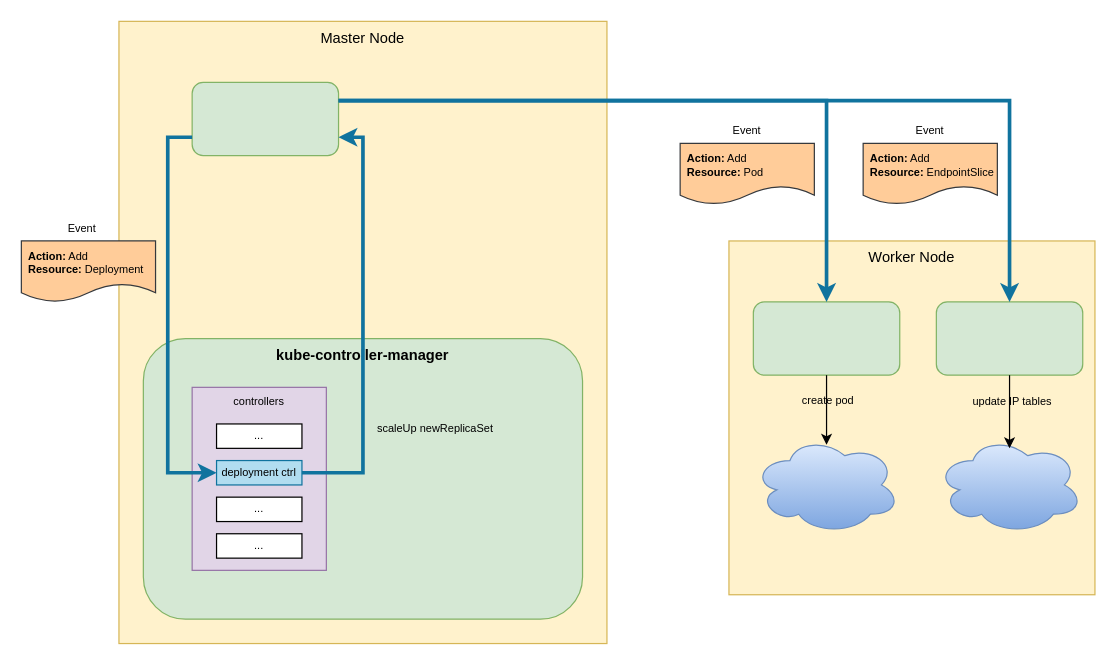
The diagram is 1116 pixels wide and 665 high, and some of its shapes have lost their labels. The centre of each missing label's shape, as x and y in pixels:
"IP routing rules" belongs at (x=1009, y=484).
"kube-apiserver" belongs at (x=265, y=118).
"kube-proxy" belongs at (x=1009, y=338).
"kubelet" belongs at (x=826, y=338).
"pods" belongs at (x=826, y=484).
